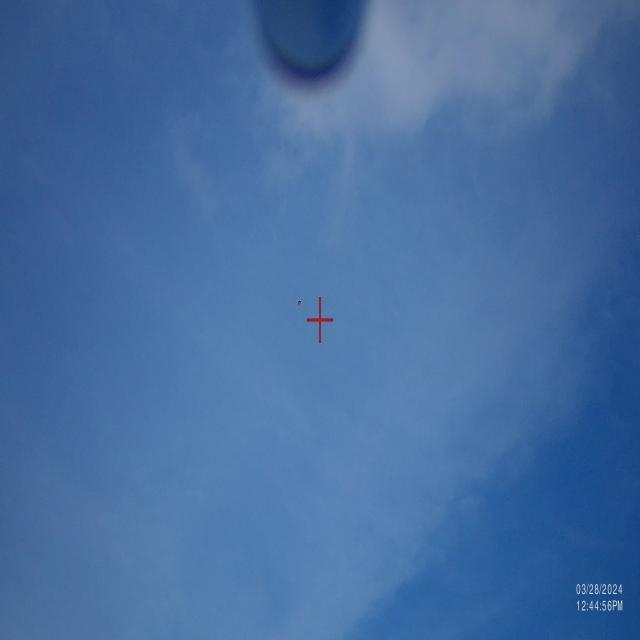entire: (294, 297, 305, 315)
